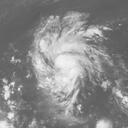cyclone: (33, 12, 87, 103)
